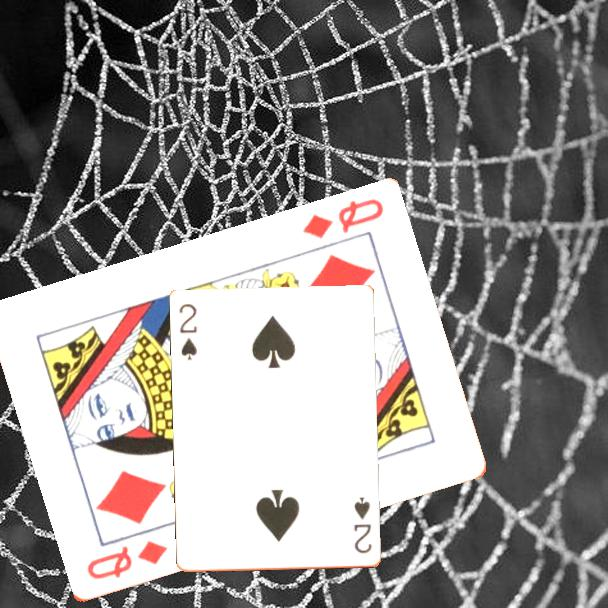d12: (299, 195, 386, 243), (83, 537, 170, 583)
s02: (351, 494, 375, 556), (176, 301, 200, 363)
